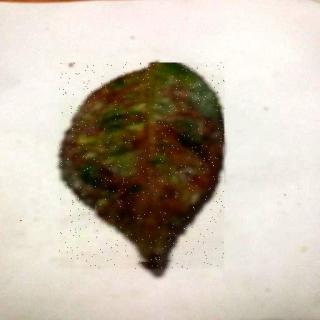Red Leaf Spot: (61, 64, 226, 270)
